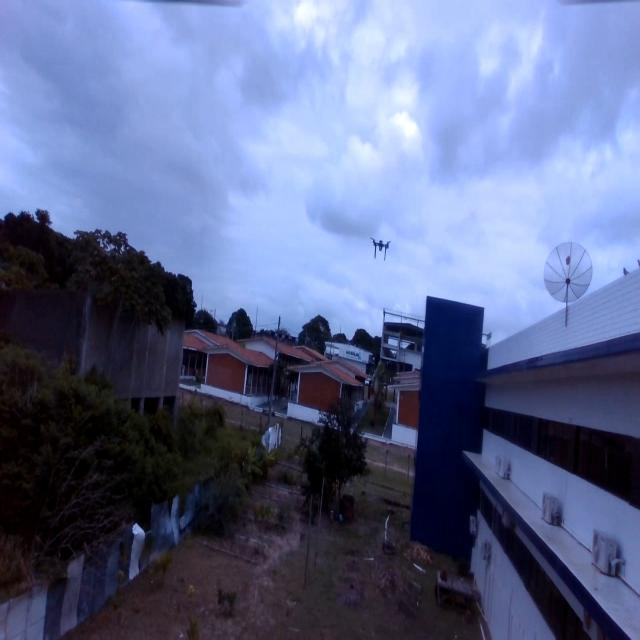-uav-: (364, 226, 400, 272)
